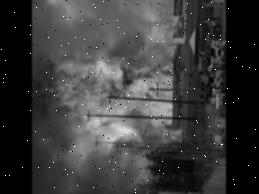fire: (32, 53, 170, 135)
